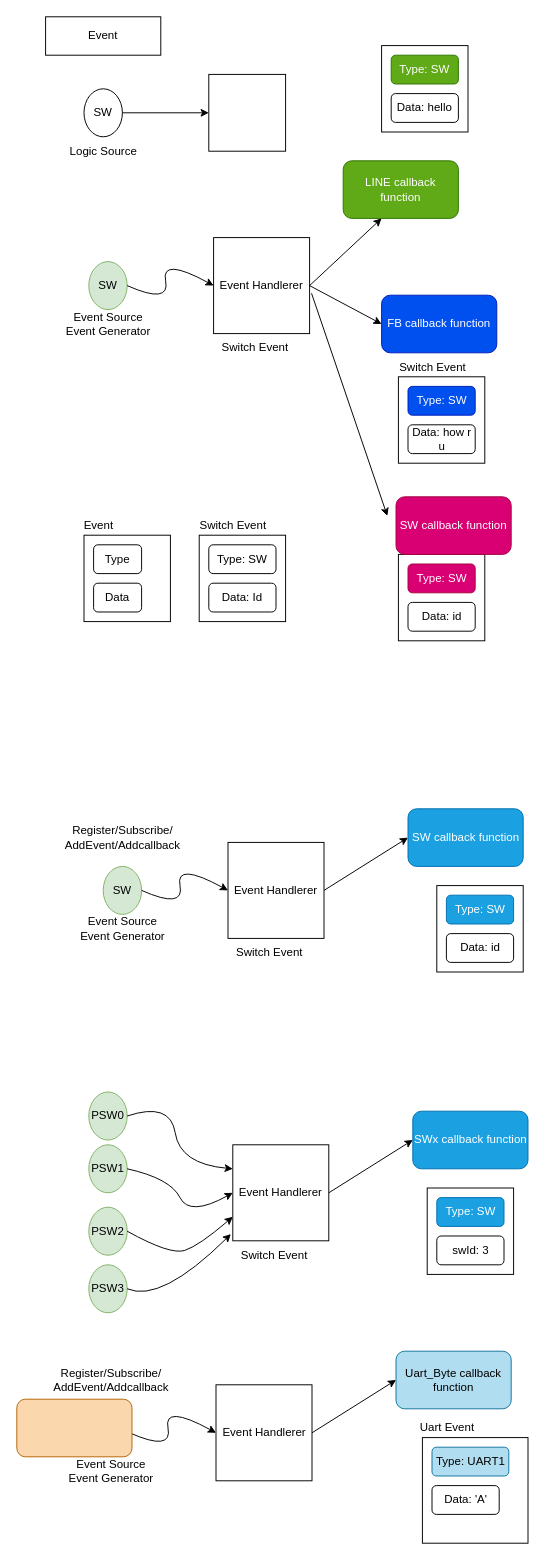
Image size: 545x1560. Some labels were removed from this diagram. Here are the shapes that lost their labels. From the top down, the centre of each, then its label:
At pixel 247 112: "MCU".
At pixel 74 1427: "Serial Port (UART1) Keyboard".
